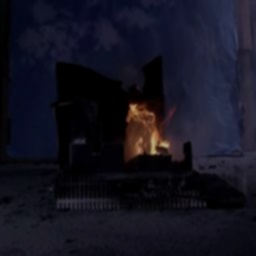fire: (122, 87, 179, 166)
